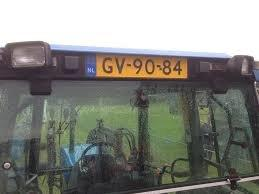license-plates: (96, 54, 188, 78)
